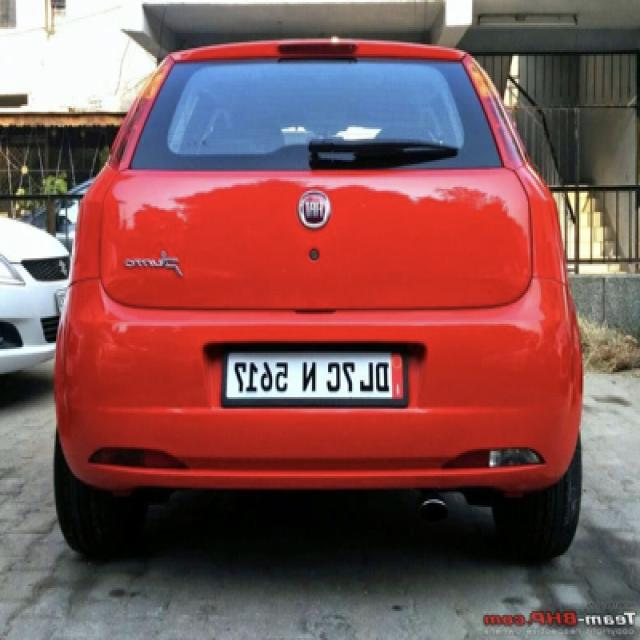number-plate: (212, 352, 422, 404)
